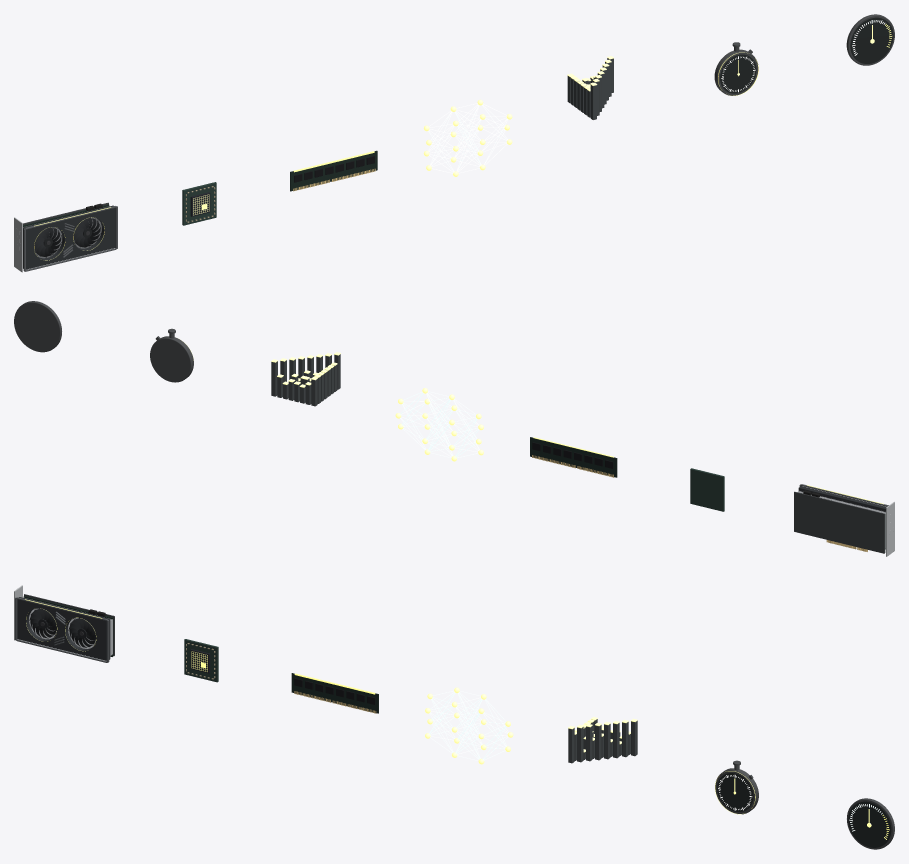
Rendered from intro.glb.
3 renders of one model, top to bottom at view 1: azimuth 30°, elevation 25°; view 2: azimuth 150°, elevation 25°; view 3: azimuth 330°, elevation 25°, orthographic.
Visible parts, largest first — view 1: shroud, net_edges, attn_columns, gauge_face, dimm_pcb, watch_face, chip_substrate, trim, fan_R, fan_L, dimm_ics, watch_body; view 2: backplate, attn_columns, net_edges, gauge_body, watch_body, dimm_pcb, chip_substrate, dimm_ics; view 3: shroud, attn_columns, net_edges, gauge_face, dimm_pcb, watch_face, trim, chip_substrate, fan_L, fan_R, dimm_ics.
Part boxes in pixels (left/top/right/bottom): shroud: left=23, top=205, right=115, bottom=269; net_edges: left=428, top=103, right=507, bottom=173; attn_columns: left=567, top=58, right=613, bottom=119; gauge_face: left=850, top=17, right=893, bottom=63; dimm_pcb: left=290, top=150, right=377, bottom=191; watch_face: left=720, top=54, right=756, bottom=93; chip_substrate: left=182, top=182, right=216, bottom=225; trim: left=23, top=206, right=117, bottom=271; fan_R: left=73, top=218, right=100, bottom=247; fan_L: left=34, top=227, right=61, bottom=257; dimm_ics: left=294, top=156, right=374, bottom=182; watch_body: left=714, top=49, right=758, bottom=95; backplate: left=794, top=491, right=884, bottom=553; attn_columns: left=271, top=354, right=340, bottom=406; net_edges: left=400, top=391, right=479, bottom=458; gauge_body: left=14, top=301, right=61, bottom=352; watch_body: left=150, top=336, right=193, bottom=382; dimm_pcb: left=530, top=437, right=617, bottom=477; chip_substrate: left=690, top=468, right=724, bottom=511; dimm_ics: left=532, top=442, right=613, bottom=468; shroud: left=17, top=597, right=110, bottom=660; attn_columns: left=568, top=719, right=637, bottom=763; net_edges: left=429, top=690, right=508, bottom=760; gauge_face: left=848, top=801, right=891, bottom=847; dimm_pcb: left=291, top=673, right=378, bottom=713; watch_face: left=717, top=773, right=753, bottom=811; trim: left=15, top=597, right=109, bottom=662; chip_substrate: left=184, top=639, right=218, bottom=682; fan_L: left=29, top=608, right=56, bottom=638; fan_R: left=68, top=618, right=95, bottom=647; dimm_ics: left=294, top=678, right=375, bottom=704.
Size of the model in its own units: 26.15 by 1.97 by 1.32.
